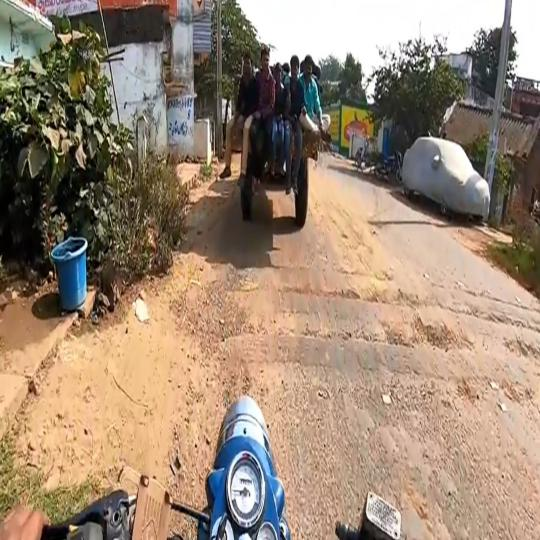Speed Bump: (234, 251, 539, 311), (219, 332, 540, 380), (226, 288, 540, 331)
